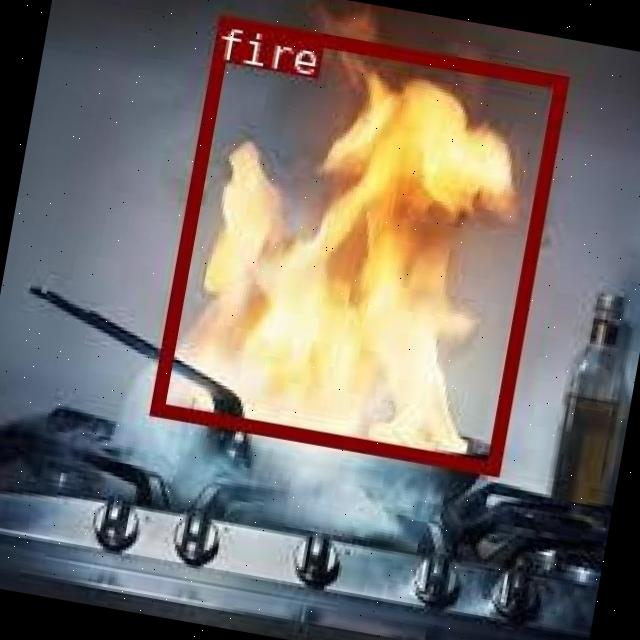fire: (148, 14, 566, 472)
